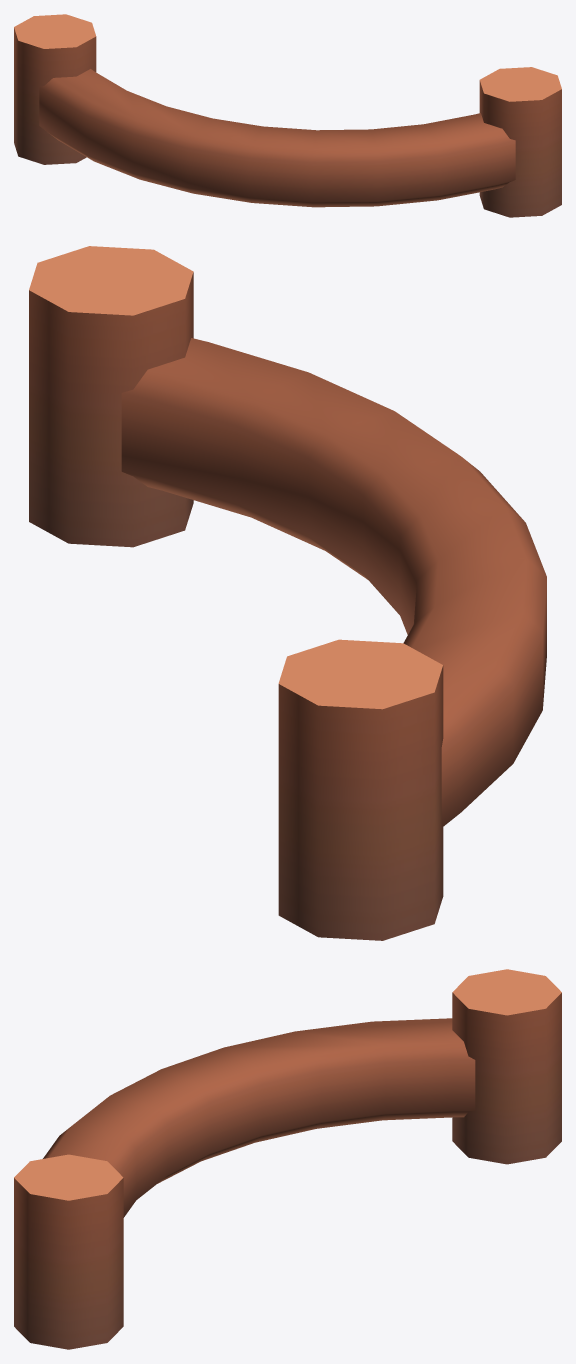
The model's file is kenney-platformer-fence-low-corner-curved.glb.
The picture shows the model from 3 angles, top to bottom: view 1: azimuth 30°, elevation 25°; view 2: azimuth 150°, elevation 25°; view 3: azimuth 270°, elevation 25°; orthographic projection. The views are drawn at different scales.
Parts seen in each view (by area): view 1: fence-low-corner-curved; view 2: fence-low-corner-curved; view 3: fence-low-corner-curved.
Boxes of the visible parts, bbox=[...] form: fence-low-corner-curved: bbox=[14, 14, 561, 217]; fence-low-corner-curved: bbox=[29, 246, 546, 940]; fence-low-corner-curved: bbox=[14, 969, 561, 1349].
Size of the model in its own units: 1 by 0.3 by 1.
Materials: 1 (1 with a texture image).
